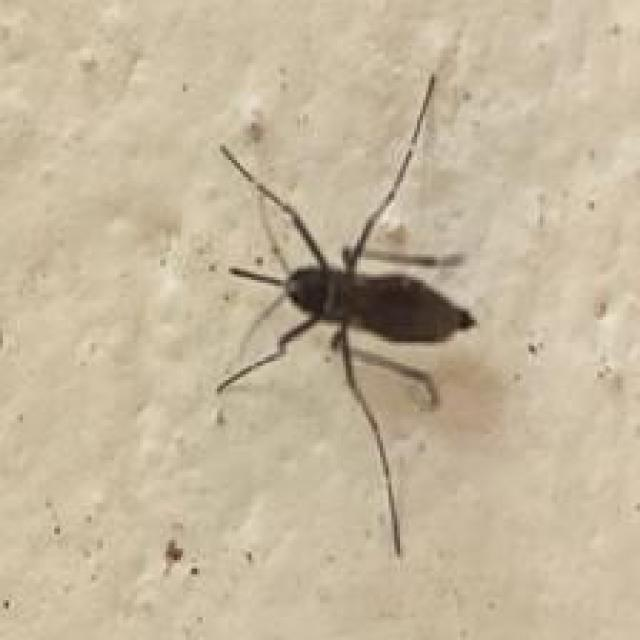Aedes albopictus: (213, 70, 478, 559)
